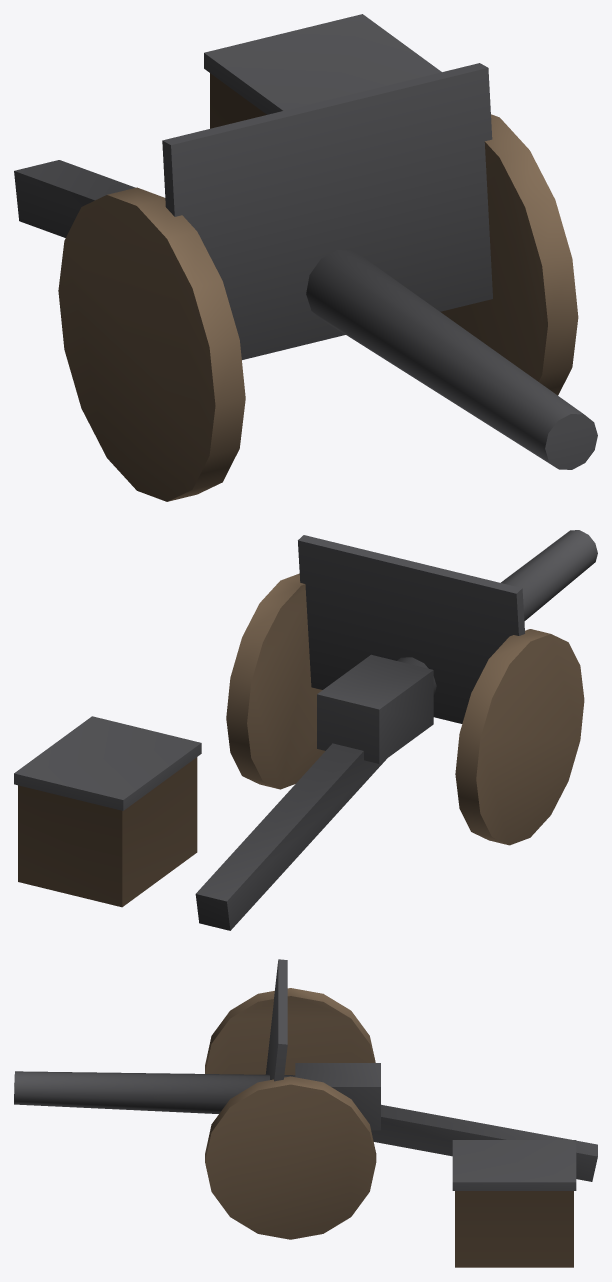
File: post_industrial.glb
The picture shows the model from 3 angles, top to bottom: view 1: azimuth 30°, elevation 25°; view 2: azimuth 150°, elevation 25°; view 3: azimuth 270°, elevation 25°; orthographic projection. The views are drawn at different scales.
Visible parts, largest first — view 1: Body; view 2: Body; view 3: Body.
Part boxes in pixels (x1,y1,x2,y2): Body: (14,14,597,501); Body: (14,530,597,930); Body: (14,959,597,1267).
Bounding box in the file's own units: 0.645 × 0.4403 × 1.23.
